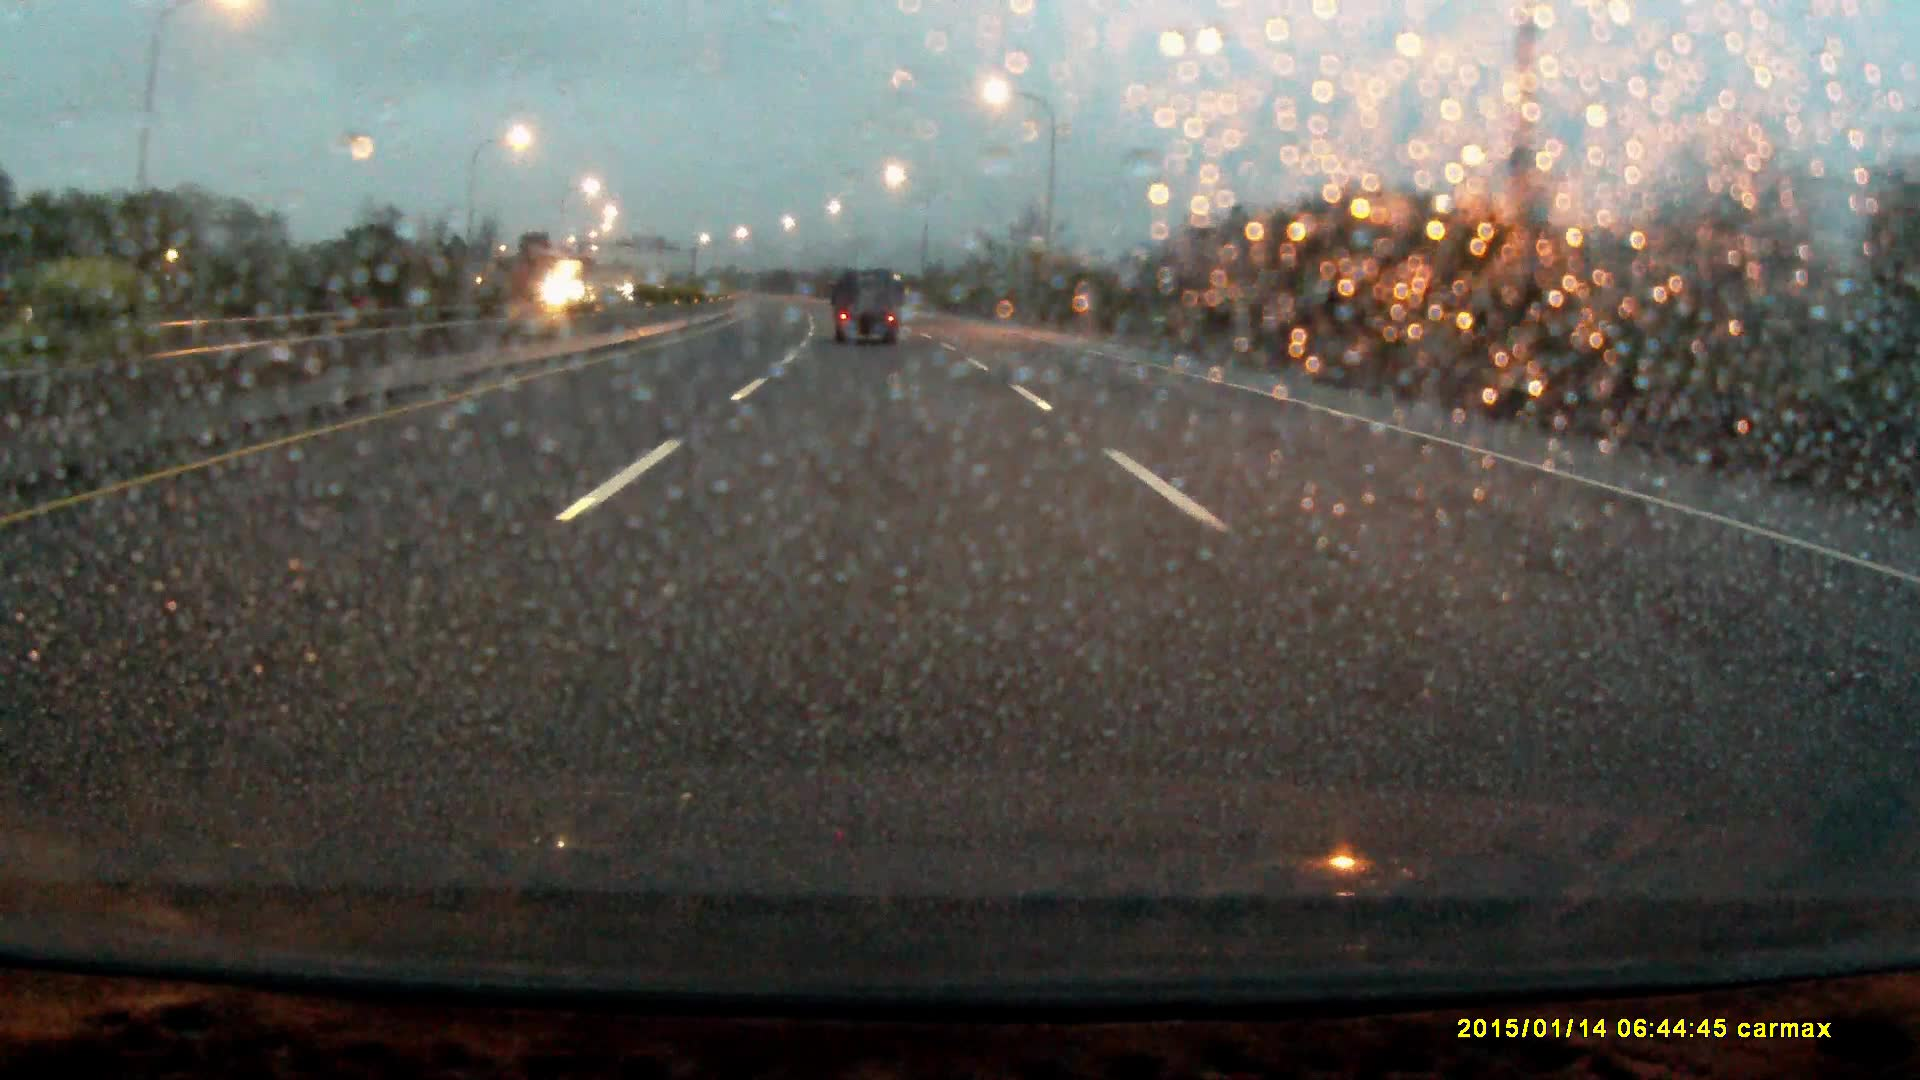vehicle: (833, 273, 903, 352), (553, 264, 622, 322)
